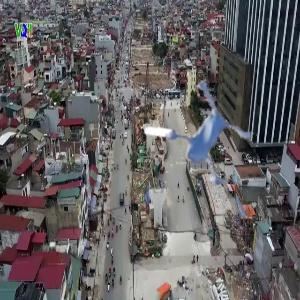drone: (121, 57, 270, 206)
